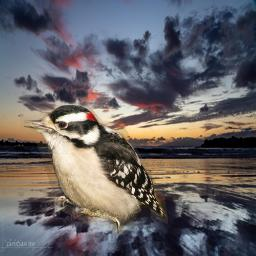Woodpecker: (20, 105, 168, 235)
